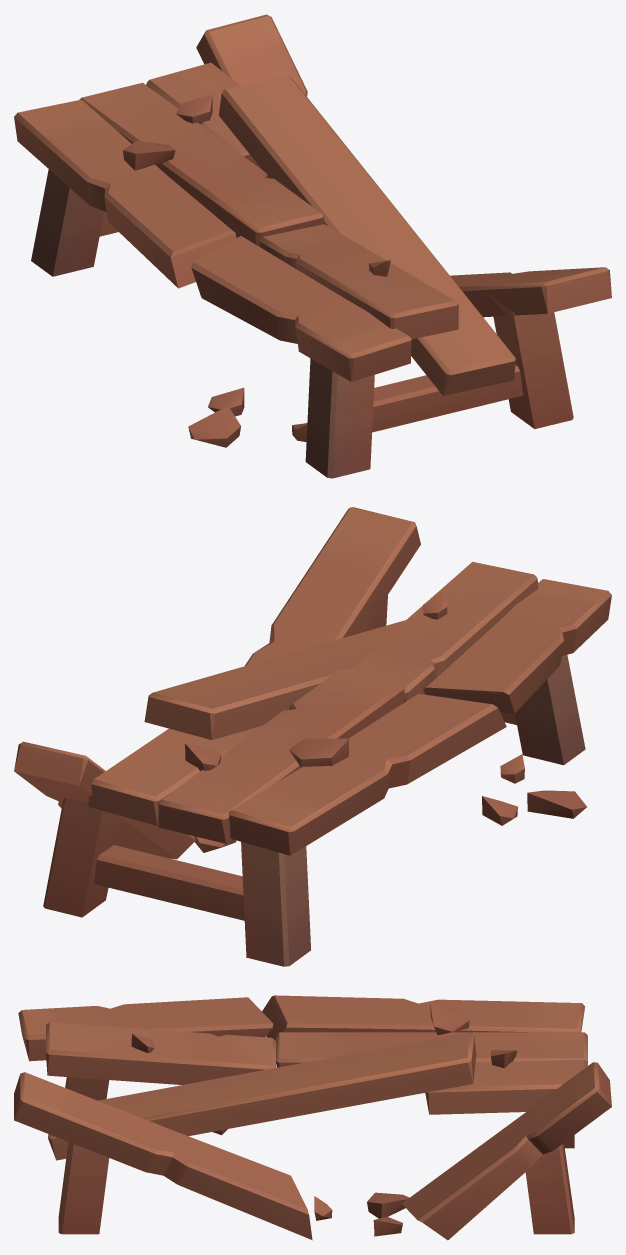
The model's file is kay-mesa-quebrada.gltf.
3 renders of one model, top to bottom at view 1: azimuth 30°, elevation 25°; view 2: azimuth 150°, elevation 25°; view 3: azimuth 270°, elevation 25°, orthographic. The views are drawn at different scales.
Visible parts, largest first — view 1: table_long_broken; view 2: table_long_broken; view 3: table_long_broken.
Boxes of the visible parts, x1=… form: table_long_broken: x1=14, y1=14, x2=611, y2=478; table_long_broken: x1=14, y1=507, x2=611, y2=966; table_long_broken: x1=14, y1=995, x2=611, y2=1240.
Bounding box in the file's own units: 1.57 × 0.8231 × 2.86.
Materials: 1 (1 with a texture image).
